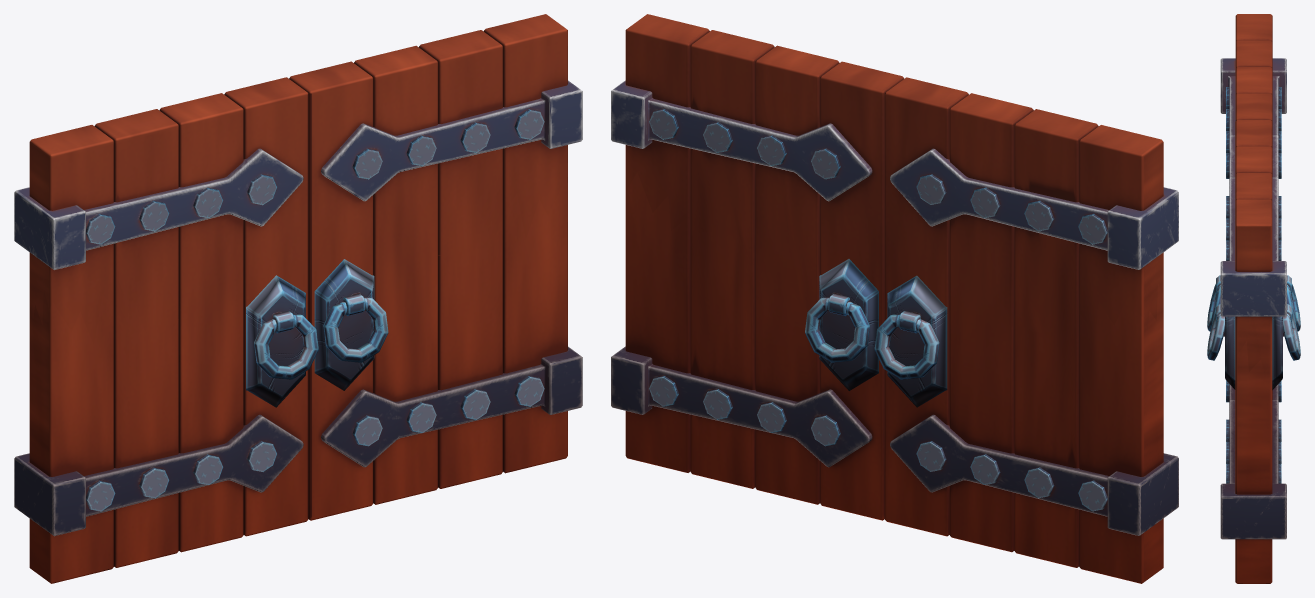
The model's file is door_destroy_door.fbx.
3 renders of one model, left to right at view 1: azimuth 30°, elevation 25°; view 2: azimuth 150°, elevation 25°; view 3: azimuth 270°, elevation 25°, orthographic. The views are drawn at different scales.
Parts seen in each view (by area): view 1: wall_door_lvl1_columnes.025, wall_door_lvl1_columnes.020, wall_door_lvl1_columnes.014, wall_door_lvl1_columnes.011, wall_door_lvl1_columnes.008, wall_door_lvl1_columnes.007, wall_door_lvl1_columnes.022, wall_door_lvl1_columnes.012, wall_door_lvl1_columnes.006, wall_door_lvl1_columnes.009, wall_door_lvl1_columnes.013, wall_door_lvl1_columnes.023 (+10 smaller); view 2: wall_door_lvl1_columnes.025, wall_door_lvl1_columnes.011, wall_door_lvl1_columnes.020, wall_door_lvl1_columnes.014, wall_door_lvl1_columnes.008, wall_door_lvl1_columnes.007, wall_door_lvl1_columnes.022, wall_door_lvl1_columnes.012, wall_door_lvl1_columnes.009, wall_door_lvl1_columnes.006, wall_door_lvl1_columnes.016, wall_door_lvl1_columnes.013 (+10 smaller); view 3: wall_door_lvl1_columnes.011, wall_door_lvl1_columnes.006, wall_door_lvl1_columnes.009, wall_door_lvl1_columnes.010, wall_door_lvl1_columnes.008, wall_door_lvl1_columnes.005, wall_door_lvl1_columnes.001, wall_door_lvl1_columnes.019, wall_door_lvl1_columnes.013, wall_door_lvl1_columnes.016, wall_door_lvl1_columnes.020, wall_door_lvl1_columnes.024 (+5 smaller).
Boxes of the visible parts, x1,y1,x2,y2 form: wall_door_lvl1_columnes.025: (29,289,113,583); wall_door_lvl1_columnes.020: (159,93,243,372); wall_door_lvl1_columnes.014: (354,45,438,319); wall_door_lvl1_columnes.011: (503,177,567,473); wall_door_lvl1_columnes.008: (14,148,303,269); wall_door_lvl1_columnes.007: (14,414,303,536); wall_door_lvl1_columnes.022: (114,305,178,567); wall_door_lvl1_columnes.012: (438,212,502,488); wall_door_lvl1_columnes.006: (321,346,582,467); wall_door_lvl1_columnes.009: (321,80,582,201); wall_door_lvl1_columnes.013: (419,30,502,277); wall_door_lvl1_columnes.023: (94,109,178,348); wall_door_lvl1_columnes.025: (1079,283,1163,583); wall_door_lvl1_columnes.011: (625,172,690,472); wall_door_lvl1_columnes.020: (949,93,1033,368); wall_door_lvl1_columnes.014: (755,45,839,313); wall_door_lvl1_columnes.008: (890,148,1178,269); wall_door_lvl1_columnes.007: (890,414,1178,535); wall_door_lvl1_columnes.022: (1014,302,1079,567); wall_door_lvl1_columnes.012: (690,220,755,488); wall_door_lvl1_columnes.009: (611,80,872,201); wall_door_lvl1_columnes.006: (611,346,872,467); wall_door_lvl1_columnes.016: (820,61,904,326); wall_door_lvl1_columnes.013: (690,30,774,264); wall_door_lvl1_columnes.011: (1235,341,1272,583); wall_door_lvl1_columnes.006: (1220,399,1286,539); wall_door_lvl1_columnes.009: (1220,177,1286,316); wall_door_lvl1_columnes.010: (1235,199,1272,373); wall_door_lvl1_columnes.008: (1220,58,1286,178); wall_door_lvl1_columnes.005: (1272,304,1300,390); wall_door_lvl1_columnes.001: (1207,304,1235,389); wall_door_lvl1_columnes.019: (1235,93,1272,176); wall_door_lvl1_columnes.013: (1235,173,1272,200); wall_door_lvl1_columnes.016: (1235,120,1272,147); wall_door_lvl1_columnes.020: (1235,67,1272,94); wall_door_lvl1_columnes.024: (1235,14,1272,41).
Size of the model in its own units: 769 by 597 by 141.
